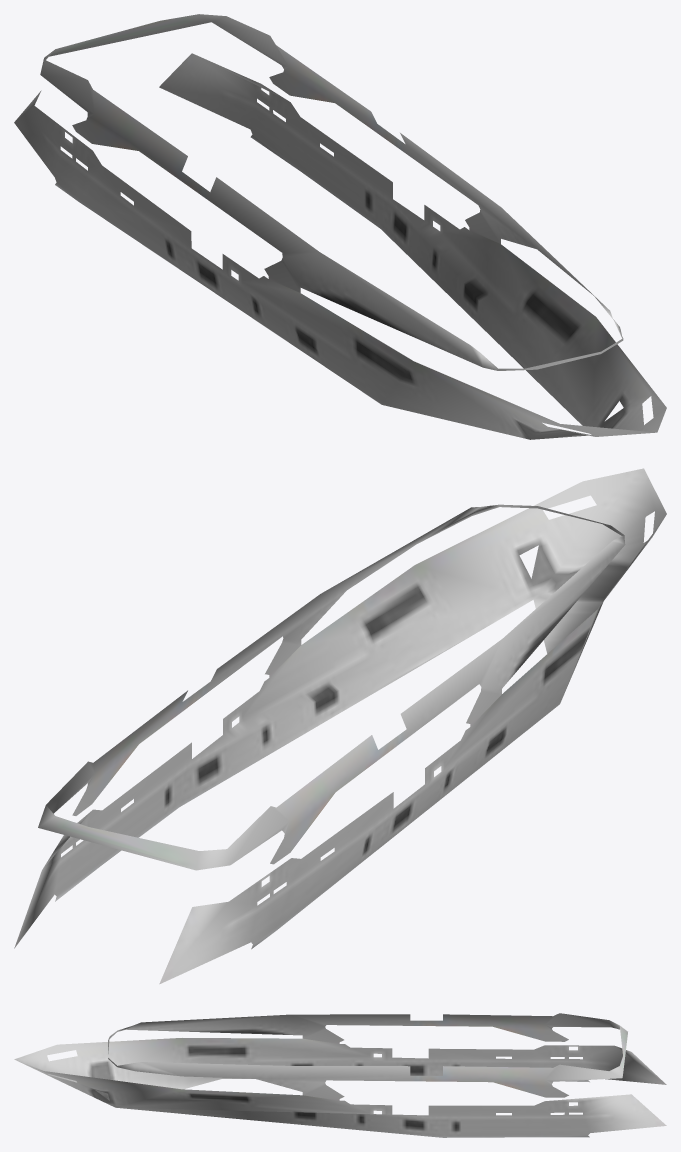
File: yacht_far.gltf
3 renders of one model, top to bottom at view 1: azimuth 30°, elevation 25°; view 2: azimuth 150°, elevation 25°; view 3: azimuth 270°, elevation 25°, orthographic. The views are drawn at different scales.
Parts seen in each view (by area): view 1: yacht_far; view 2: yacht_far; view 3: yacht_far.
Boxes of the visible parts, left/top/right/bottom form: yacht_far: left=14, top=14, right=666, bottom=439; yacht_far: left=14, top=468, right=666, bottom=984; yacht_far: left=14, top=1013, right=666, bottom=1137.
Bounding box in the file's own units: 6.1 × 3.54 × 29.53.
1 material, 1 textured.
